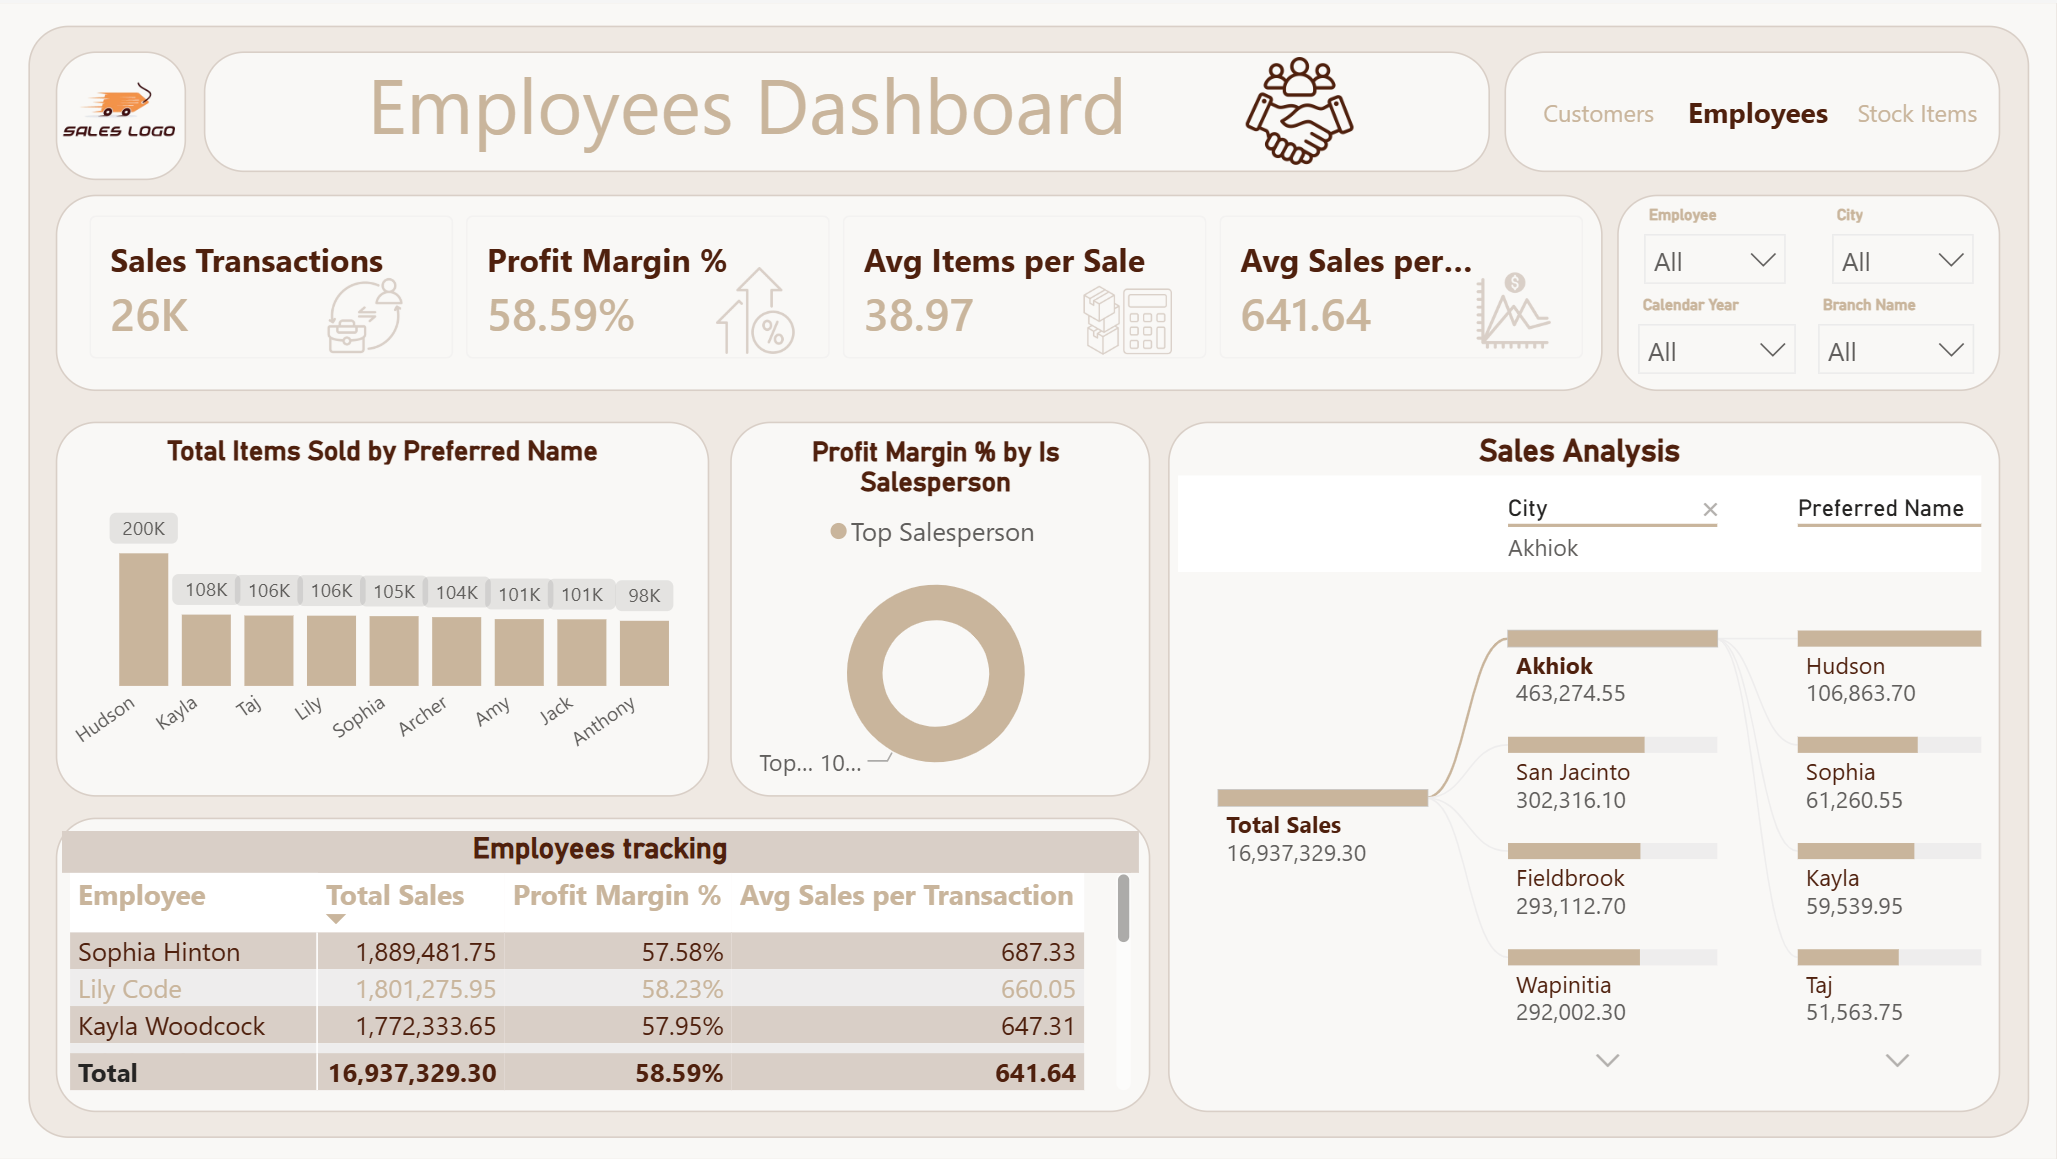

The dashboard page shown, as its layout file describes it:
{"tool":"powerbi","page":{"name":"Employees","canvas":[1280,720],"ordinal":1},"visuals":[{"type":"textbox","box":[136.7,24.2,657.6,96.3],"z":0},{"type":"image","box":[745.8,33.8,124.9,66.9],"z":1000},{"type":"image","box":[15.4,24.2,114.6,86.7],"z":3000},{"type":"cardVisual","fields":{"Data":["_Measures.Sales Transactions","_Measures.Profit Margin %","_Measures.Avg Items per Sale","_Measures.Avg Sales per Transaction"]},"box":[39.7,114.6,962.6,123.4],"z":4000},{"type":"decompositionTreeVisual","title":"Sales Analysis","fields":{"Analyze":["_Measures.Total Sales"],"ExplainBy":["DimCity.City","DimEmployee.Preferred Name"]},"box":[728.2,266.7,509.2,413.7],"z":5000},{"type":"pivotTable","title":"Employees tracking","fields":{"Rows":["DimEmployee.Employee"],"Values":["_Measures.Total Sales","_Measures.Profit Margin %","_Measures.Avg Sales per Transaction"]},"box":[39.7,514.4,668.7,166.1],"z":6000},{"type":"donutChart","fields":{"Category":["DimEmployee.Is Salesperson"],"Y":["_Measures.Profit Margin %"]},"box":[456.3,268.2,252,226.3],"z":7000},{"type":"columnChart","fields":{"Category":["DimEmployee.Preferred Name"],"Y":["_Measures.Total Items Sold"]},"box":[39.7,267.5,398.3,217.5],"z":8000},{"type":"slicer","fields":{"Values":["DimDate.Calendar Year"]},"box":[1008.9,176.3,117.6,70.5],"z":9000},{"type":"slicer","fields":{"Values":["DimEmployee.Employee"]},"box":[1012.5,120.5,108,55.8],"z":10000},{"type":"slicer","fields":{"Values":["DimCustomer.Branch Name"]},"box":[1120.6,176.3,116.8,70.5],"z":11000},{"type":"slicer","fields":{"Values":["DimCity.City"]},"box":[1129.4,120.5,108,55.8],"z":12000},{"type":"image","box":[181.7,170.4,92.5,47.9],"z":12001},{"type":"image","box":[417.4,163.9,105.8,54.4],"z":12002},{"type":"image","box":[652.3,169.7,99.2,54.6],"z":12003},{"type":"image","box":[892,163.9,99.2,54.4],"z":12004},{"type":"pageNavigator","box":[950.1,39.7,287.3,55.8],"z":12005}]}

Visuals, with their boxes in screenshot pixels (x1, y1, x2, y2), scaled from the page's 1280x720 canvas onto the 2057x1159 screenshot:
textbox: 220/39/1276/194
image: 1199/54/1399/162
image: 25/39/209/179
cardVisual - _Measures.Sales Transactions x _Measures.Profit Margin %: 64/184/1611/383
"Sales Analysis" decompositionTreeVisual: 1170/429/1989/1095
"Employees tracking" pivotTable: 64/828/1138/1095
donutChart - DimEmployee.Is Salesperson x _Measures.Profit Margin %: 733/432/1138/796
columnChart - DimEmployee.Preferred Name x _Measures.Total Items Sold: 64/431/704/781
slicer - DimDate.Calendar Year: 1621/284/1810/397
slicer - DimEmployee.Employee: 1627/194/1801/284
slicer - DimCustomer.Branch Name: 1801/284/1989/397
slicer - DimCity.City: 1815/194/1989/284
image: 292/274/441/351
image: 671/264/841/351
image: 1048/273/1208/361
image: 1433/264/1593/351
pageNavigator: 1527/64/1989/154
